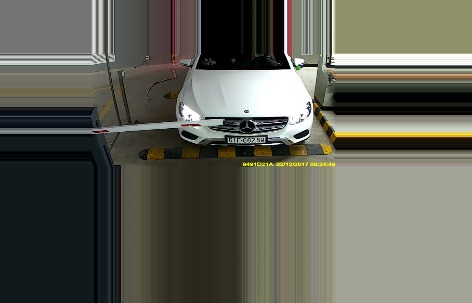plate: (226, 132, 270, 146)
